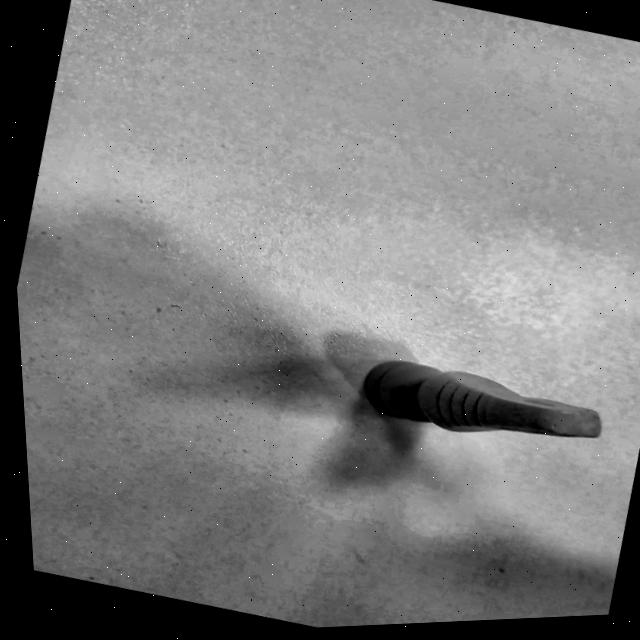white-knight: (322, 315, 640, 504)
